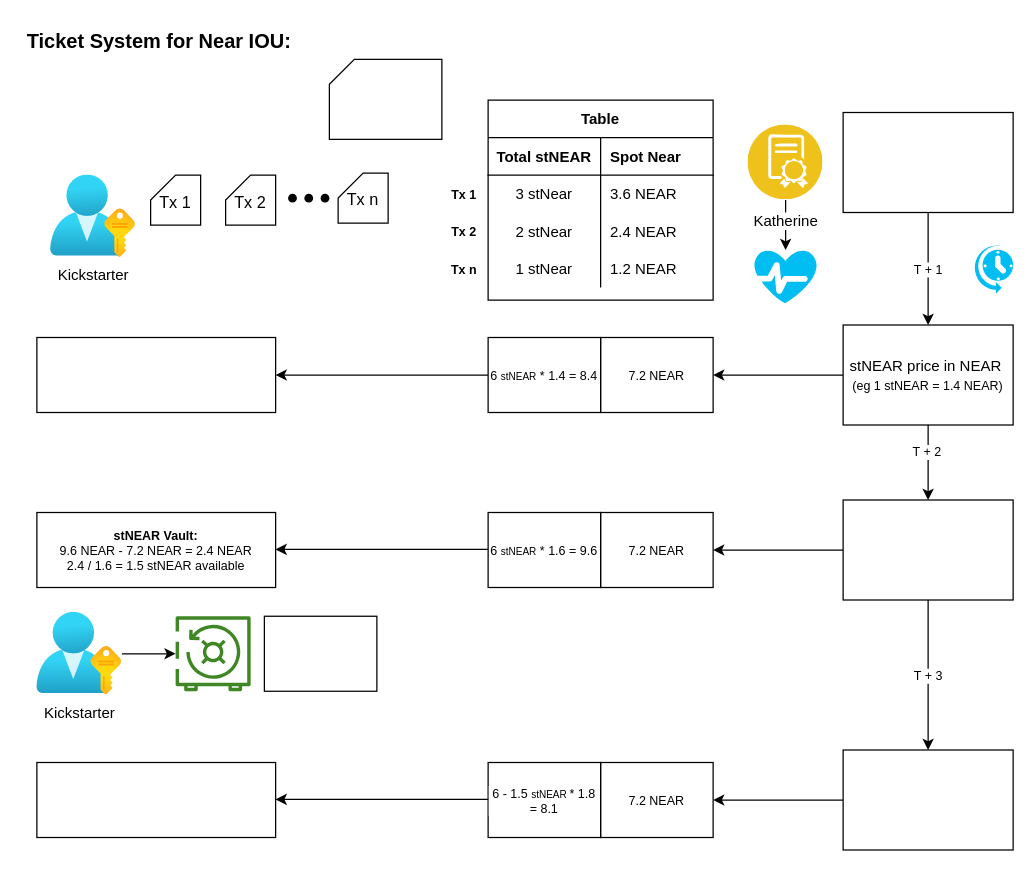
The diagram is 1035 pixels wide and 871 high, and some of its shapes have lost their labels. Each missing label, with the centre of its shape:
Heartbeat: point 785,275
Kickstarter pulls the 1.5 stNear available from the Vault: point 320,653
stNEAR price in NEAR ( eg 1 stNEAR = 1.2 NEAR ): point 927,161
stNEAR price in NEAR ( eg 1 stNEAR = 1.6 NEAR ): point 927,549
stNEAR price in NEAR ( eg 1 stNEAR = 1.8 NEAR ): point 927,799
stNEAR Vault: 8.1 NEAR - 7.2 NEAR = 0.9 NEAR 0.9 / 1.8 = 0.5 stNEAR available: point 156,799
stNEAR Vault: 8.4 NEAR - 7.2 NEAR = 1.2 NEAR 1.2 / 1.4 = 0.85 stNEAR available: point 156,374
Tx: - Total stNEAR - Spot NEAR: point 385,98
